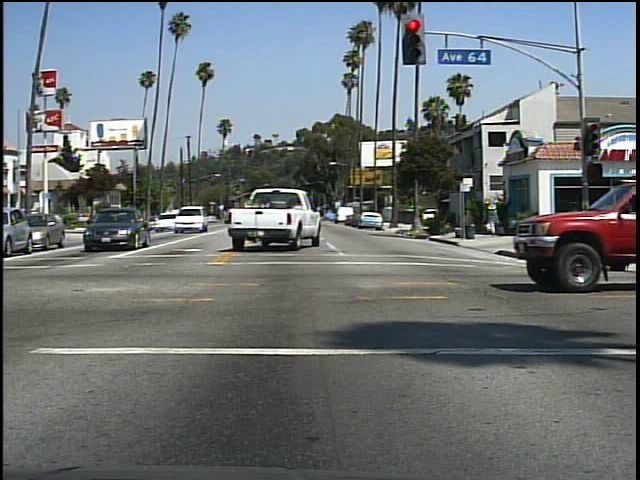person: (482, 199, 508, 238)
